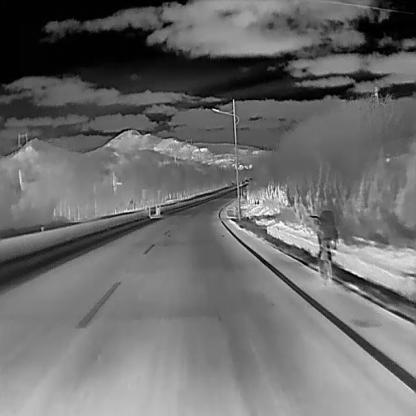car: (216, 197, 248, 231), (114, 202, 134, 224), (139, 200, 152, 214), (192, 197, 202, 208), (205, 198, 214, 206), (155, 200, 162, 210), (161, 198, 167, 208), (168, 199, 175, 206)
